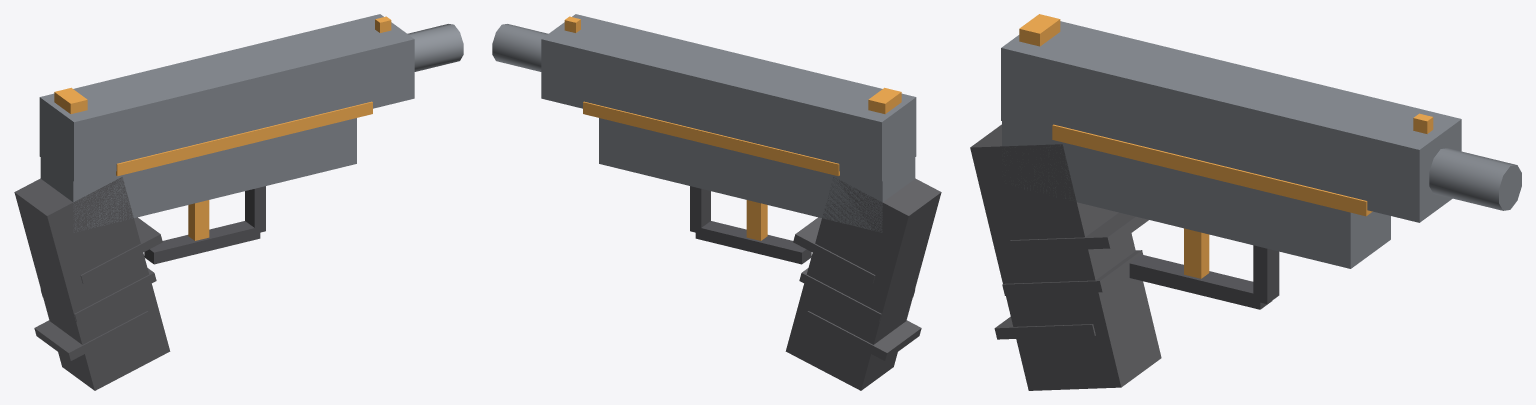
File: light_gun.glb
The picture shows the model from 3 angles, left to right: view 1: azimuth 30°, elevation 25°; view 2: azimuth 150°, elevation 25°; view 3: azimuth 330°, elevation 25°; orthographic projection. The views are drawn at different scales.
Size of the model in its own units: 0.2984 by 0.1919 by 0.044.
